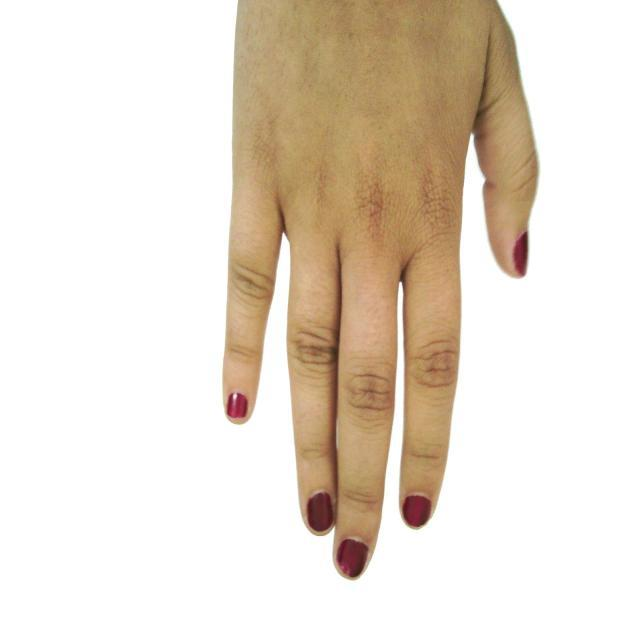Fingernail: (339, 540, 366, 577), (308, 493, 332, 533), (403, 495, 430, 528), (515, 233, 528, 276), (228, 393, 247, 420)
